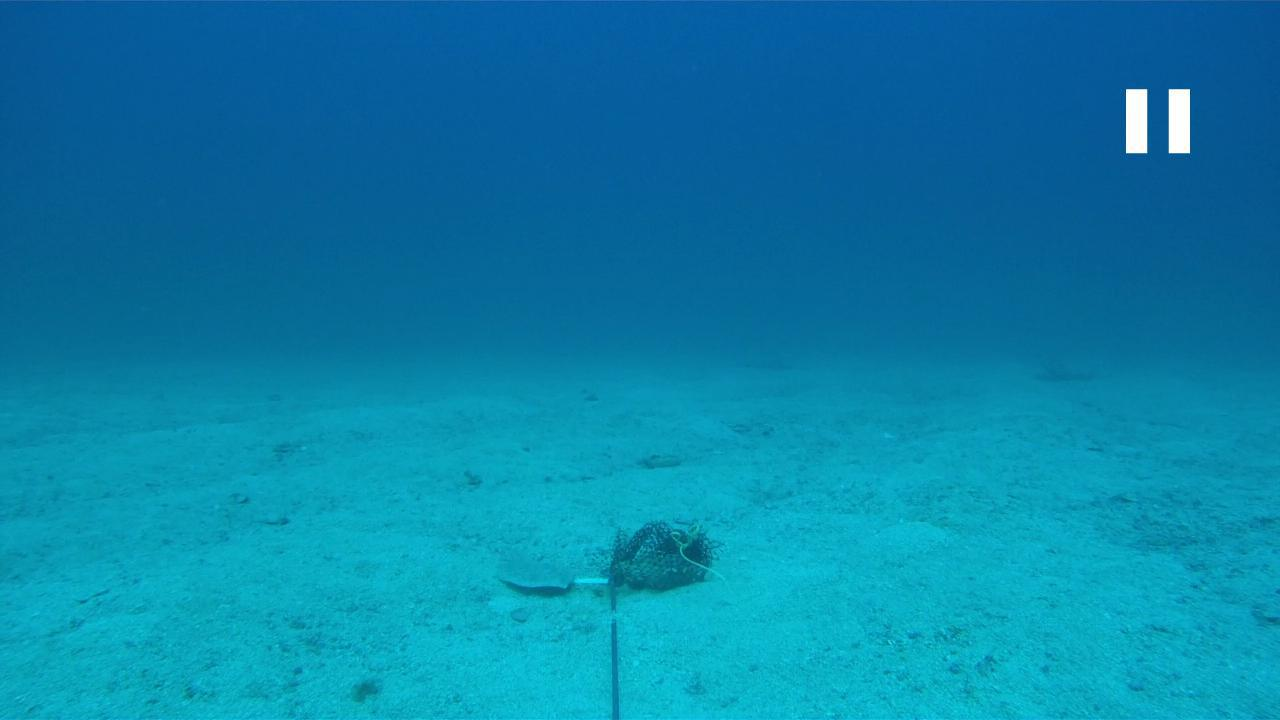bothus: (489, 543, 574, 603)
